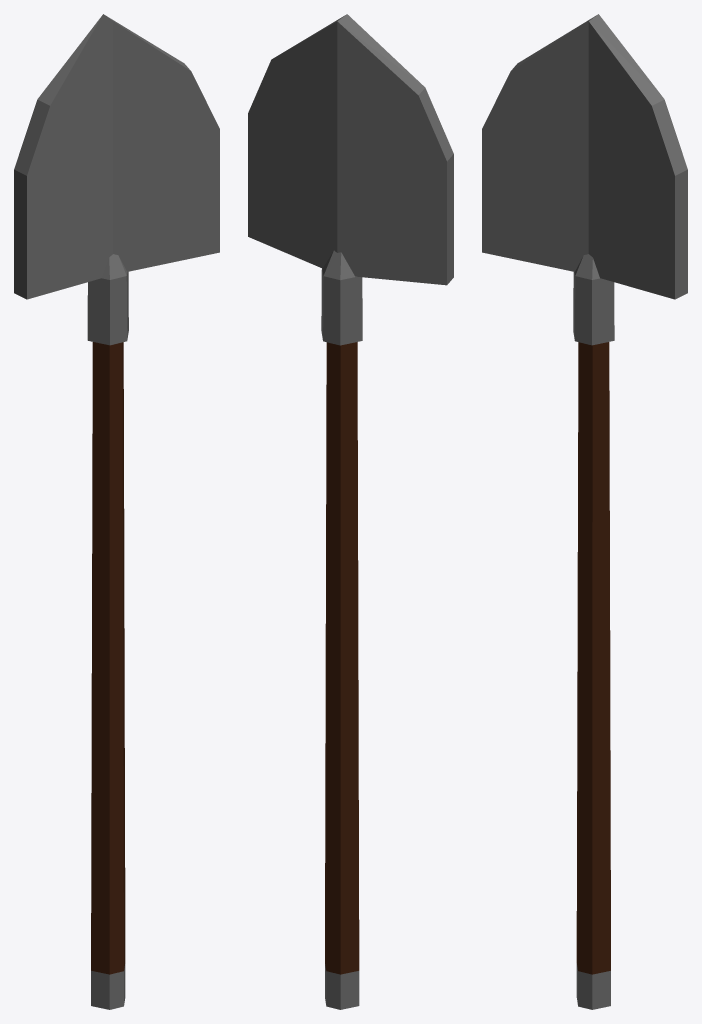
File: Spade 01.FBX
The picture shows the model from 3 angles, left to right: view 1: azimuth 30°, elevation 25°; view 2: azimuth 150°, elevation 25°; view 3: azimuth 330°, elevation 25°; orthographic projection.
Parts seen in each view (by area): view 1: Spade 01; view 2: Spade 01; view 3: Spade 01.
Boxes of the visible parts, x1,y1,x2,y2 form: Spade 01: [14, 14, 219, 1009]; Spade 01: [248, 14, 453, 1009]; Spade 01: [482, 14, 687, 1009].
Bounding box in the file's own units: 29.24 × 138 × 6.54.
Materials: 1 (1 with a texture image).
